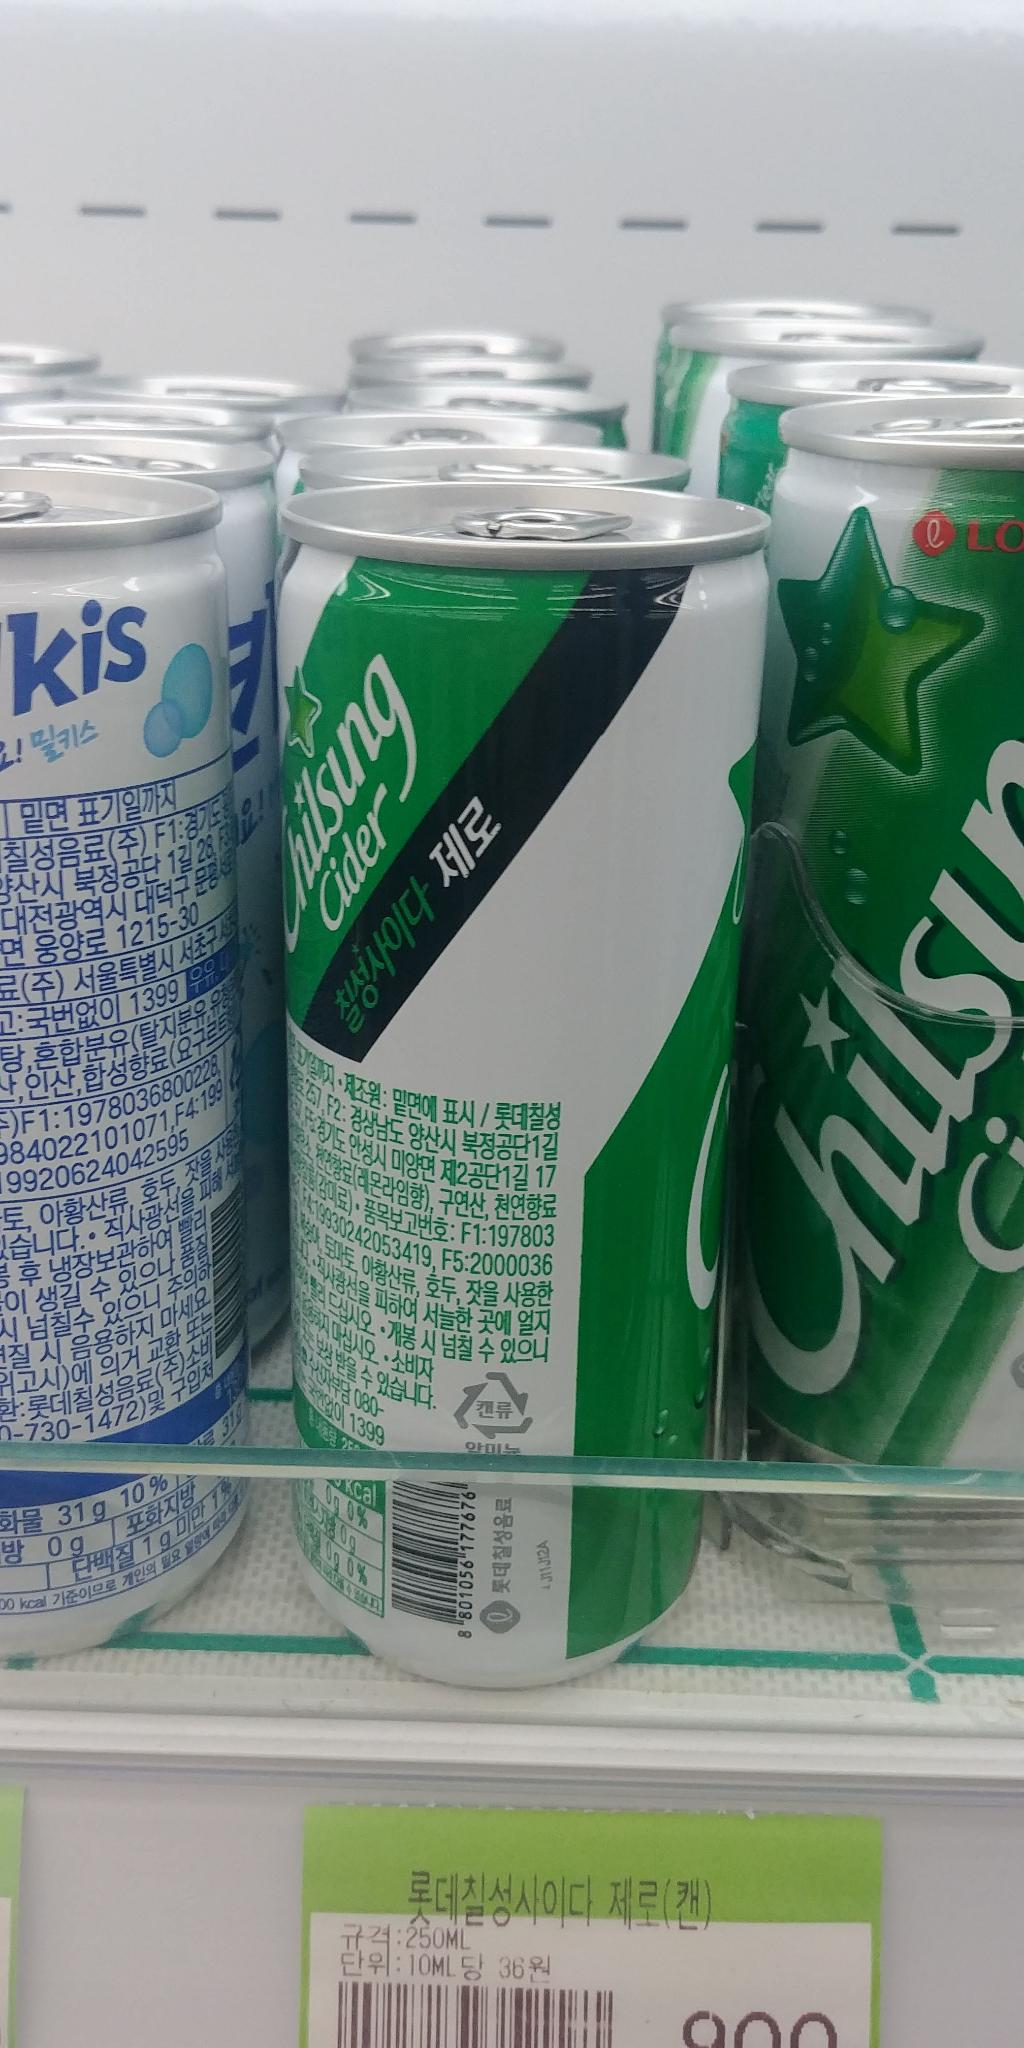chilsungcider_zero: (255, 477, 747, 1674)
